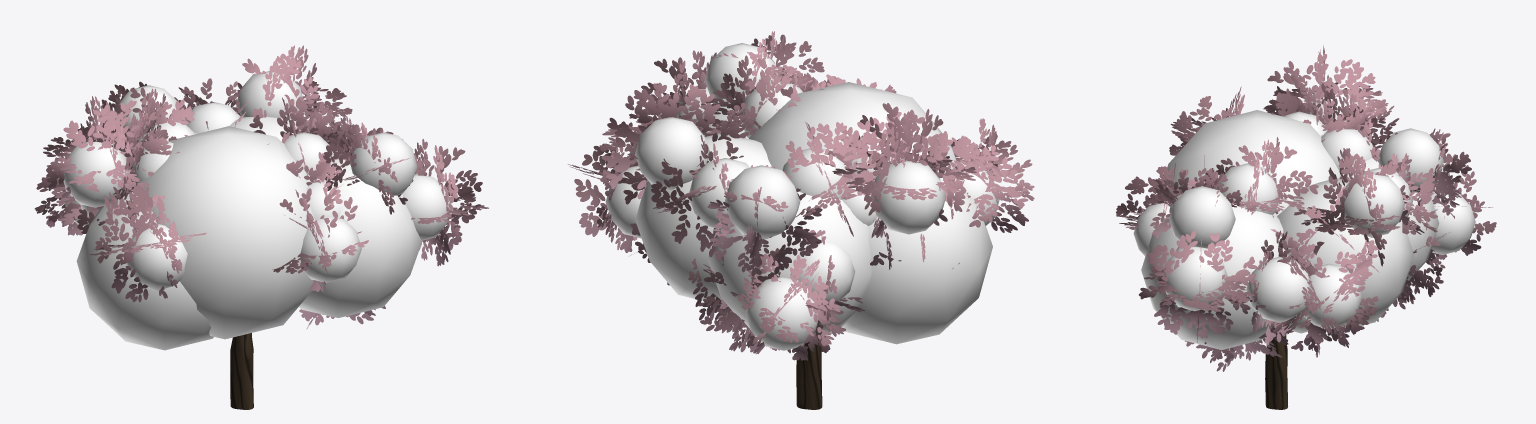
The model's file is bush_flower.gltf.
The picture shows the model from 3 angles, left to right: view 1: azimuth 30°, elevation 25°; view 2: azimuth 150°, elevation 25°; view 3: azimuth 270°, elevation 25°; orthographic projection. The views are drawn at different scales.
Parts seen in each view (by area): view 1: bush_flower_shadow_LOD0, bush_flower_leaves_LOD0, bush_flower_trunk_LOD0; view 2: bush_flower_shadow_LOD0, bush_flower_leaves_LOD0, bush_flower_trunk_LOD0; view 3: bush_flower_shadow_LOD0, bush_flower_leaves_LOD0, bush_flower_trunk_LOD0.
Boxes of the visible parts, x1=… form: bush_flower_shadow_LOD0: x1=63, y1=71, x2=451, y2=350; bush_flower_leaves_LOD0: x1=34, y1=45, x2=488, y2=329; bush_flower_trunk_LOD0: x1=230, y1=333, x2=253, y2=409; bush_flower_shadow_LOD0: x1=605, y1=43, x2=999, y2=350; bush_flower_leaves_LOD0: x1=568, y1=31, x2=1034, y2=360; bush_flower_trunk_LOD0: x1=796, y1=338, x2=822, y2=409; bush_flower_shadow_LOD0: x1=1133, y1=87, x2=1475, y2=349; bush_flower_leaves_LOD0: x1=1116, y1=45, x2=1496, y2=371; bush_flower_trunk_LOD0: x1=1265, y1=328, x2=1287, y2=409.
Size of what is drawn, in the model's own units: 2.37 by 1.78 by 2.19.
3 materials, 2 textured.
